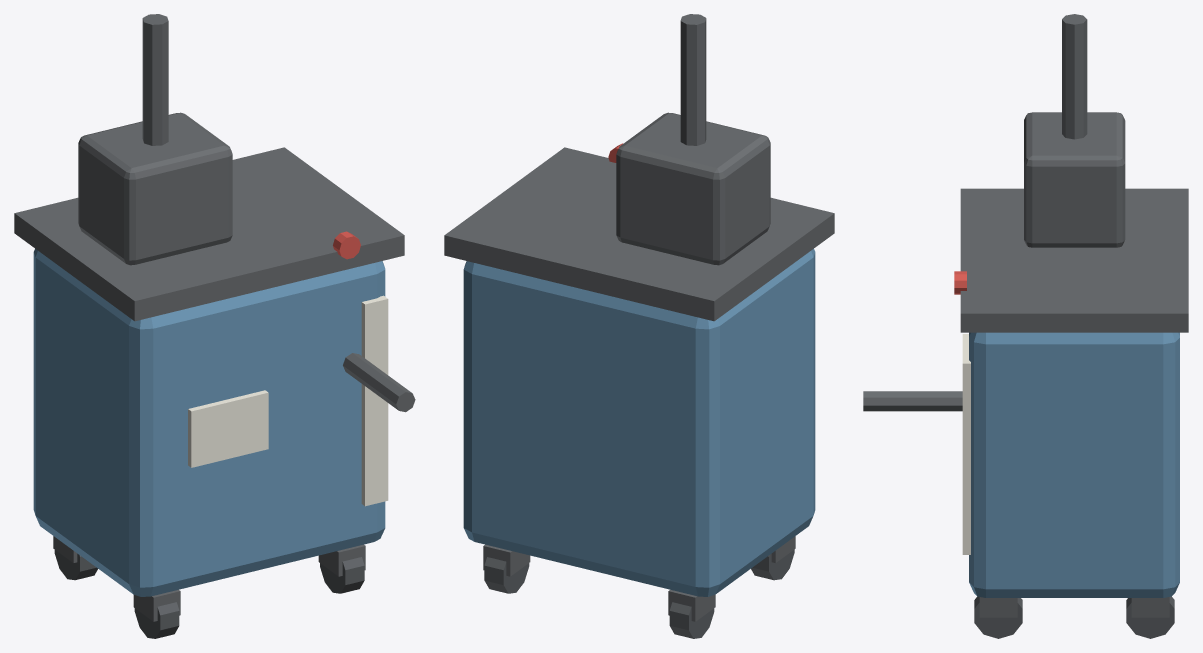
Rendered from coolant-mixing-tank-with-pump.glb.
3 views of the same model, side by side, from view 1: azimuth 30°, elevation 25°; view 2: azimuth 150°, elevation 25°; view 3: azimuth 270°, elevation 25° (orthographic). The views are drawn at different scales.
Visible parts, largest first — view 1: machine-shop-and-factory-hall-coolant-tank; view 2: machine-shop-and-factory-hall-coolant-tank; view 3: machine-shop-and-factory-hall-coolant-tank.
Boxes of the visible parts, x1,y1,x2,y2 form: machine-shop-and-factory-hall-coolant-tank: (14, 14, 415, 638); machine-shop-and-factory-hall-coolant-tank: (444, 14, 834, 638); machine-shop-and-factory-hall-coolant-tank: (863, 14, 1188, 638).
Size of the model in its own units: 0.7 by 1.43 by 0.7701.
